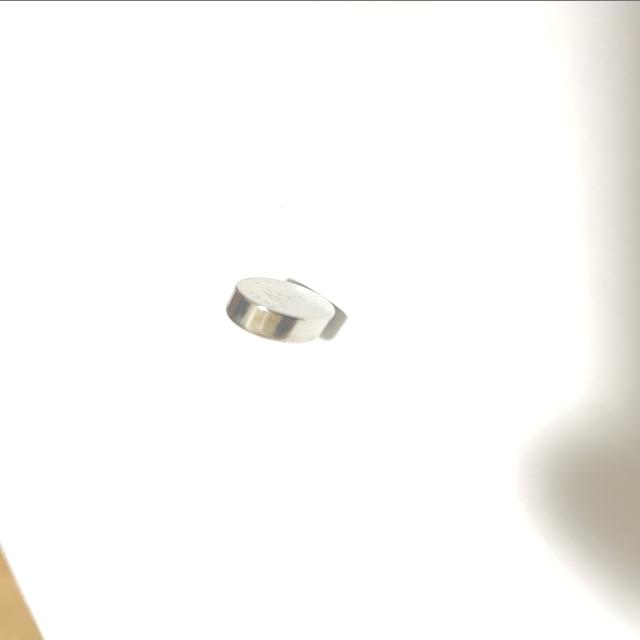COIN: (220, 274, 338, 342)
